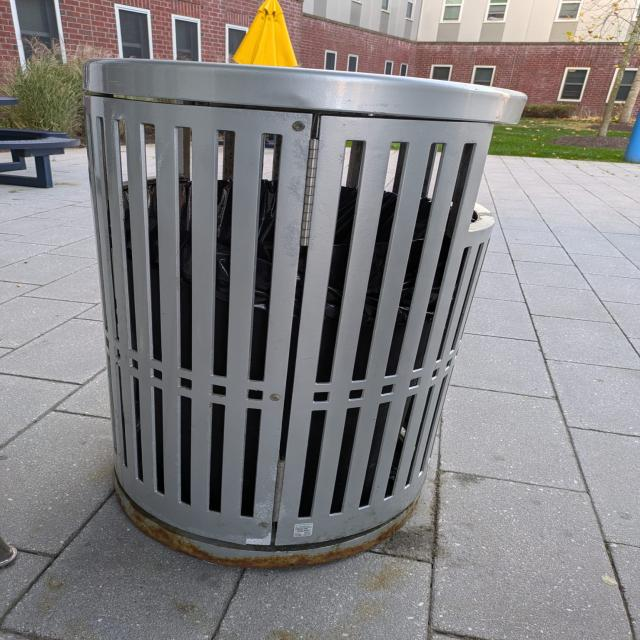Uniform Corrosion: (116, 481, 420, 569)
